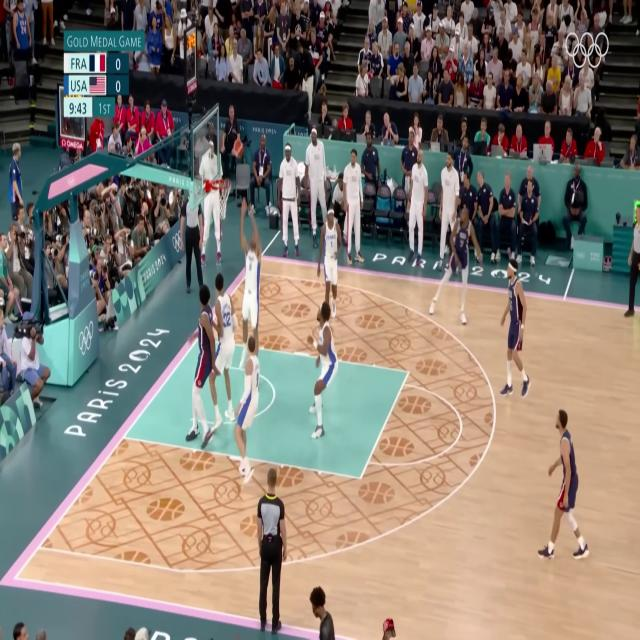player: (543, 401, 585, 586), (428, 201, 484, 321), (226, 336, 266, 501), (496, 255, 534, 418), (236, 194, 270, 375), (205, 268, 239, 442), (184, 284, 220, 448), (308, 208, 350, 332), (306, 300, 337, 452)
